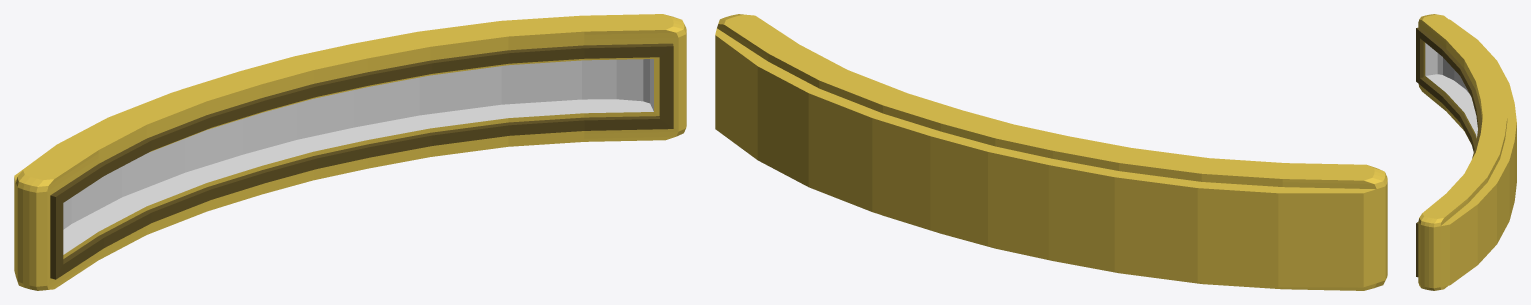
File: Sequence Tablet.fbx
3 renders of one model, left to right at view 1: azimuth 30°, elevation 25°; view 2: azimuth 150°, elevation 25°; view 3: azimuth 270°, elevation 25°, orthographic. The views are drawn at different scales.
Parts seen in each view (by area): view 1: Cube; view 2: Cube; view 3: Cube.
Part boxes in pixels (x1,y1,x2,y2): Cube: [14, 14, 686, 290]; Cube: [715, 14, 1387, 290]; Cube: [1416, 14, 1516, 290].
Size of the model in its own units: 1743 by 275 by 352.
